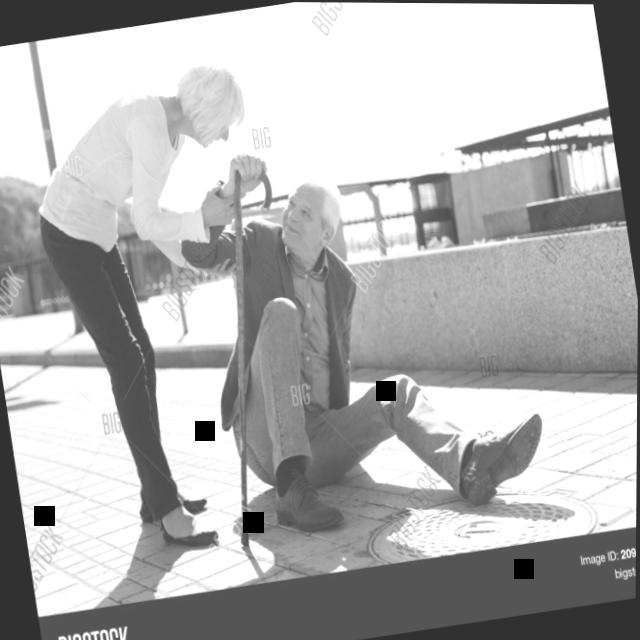Fall-Detected: (163, 111, 573, 563)
